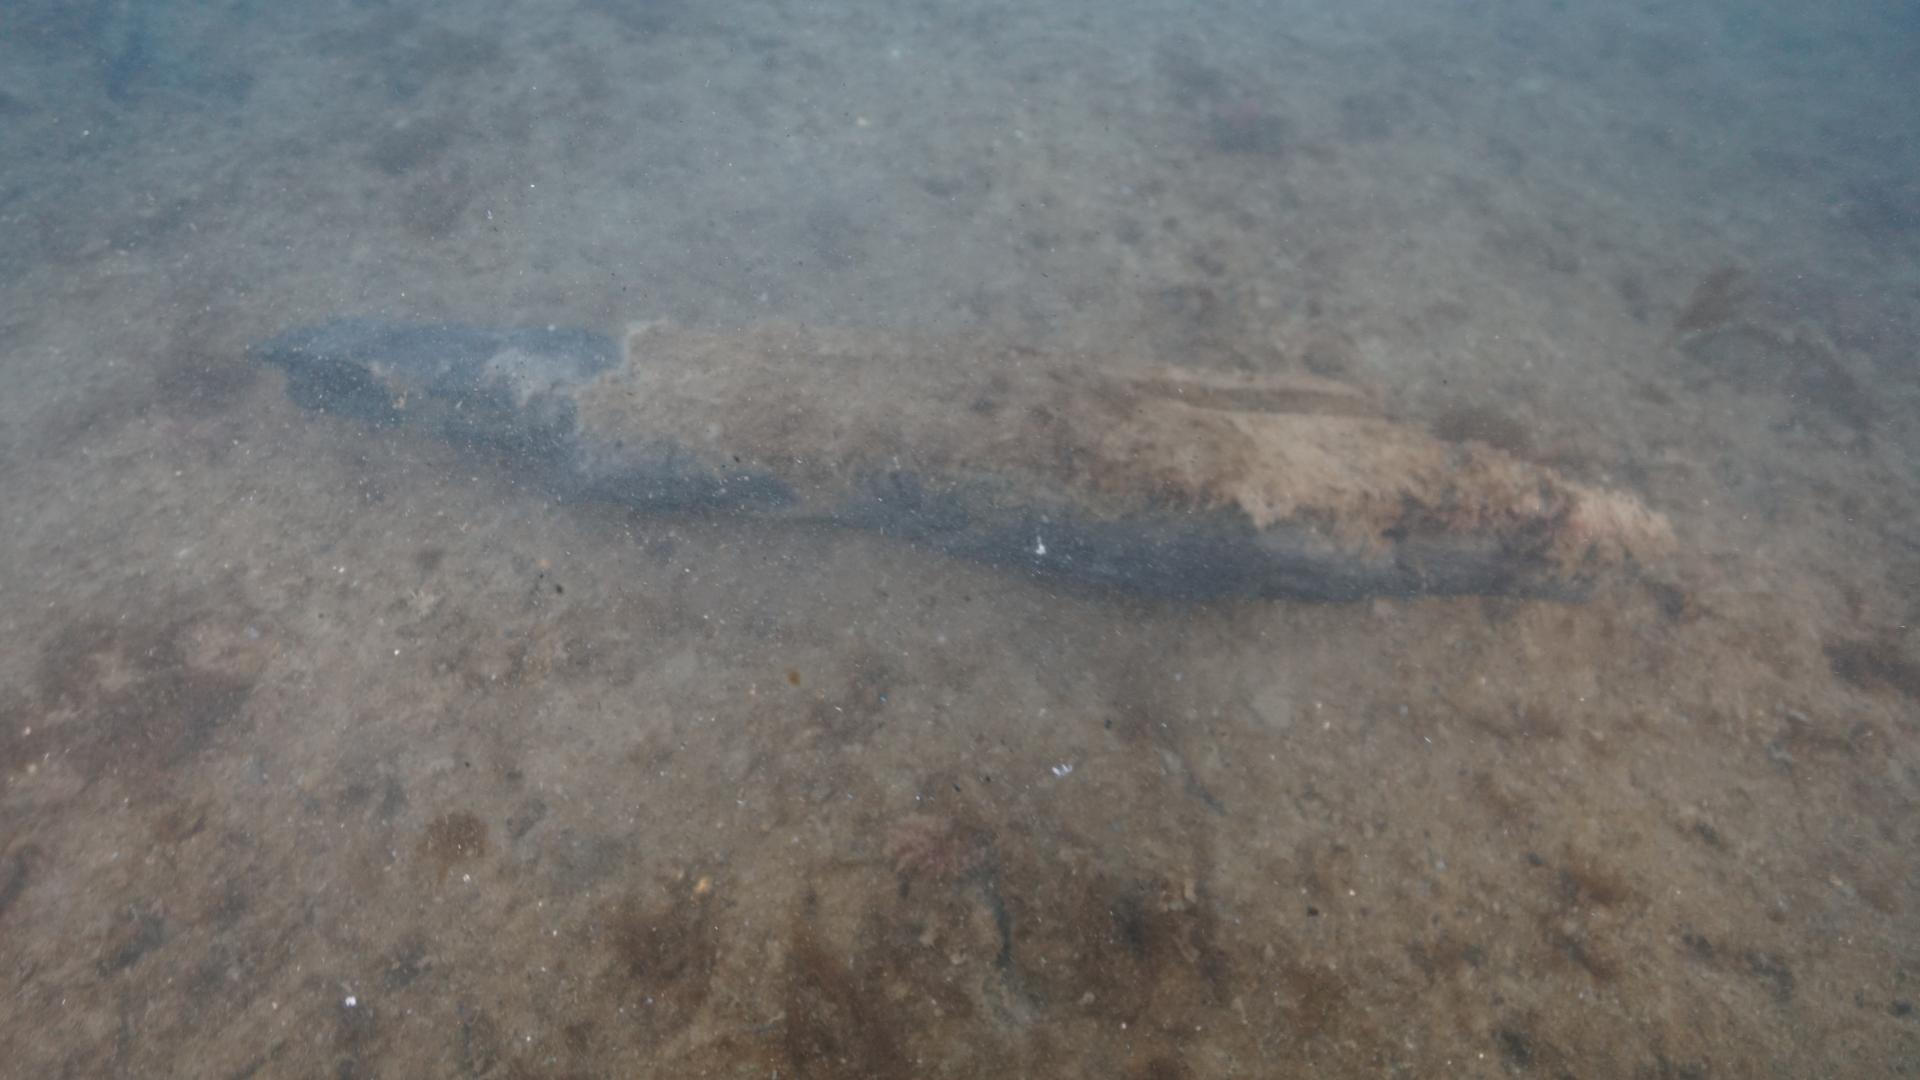wood: (237, 339, 1687, 615)
